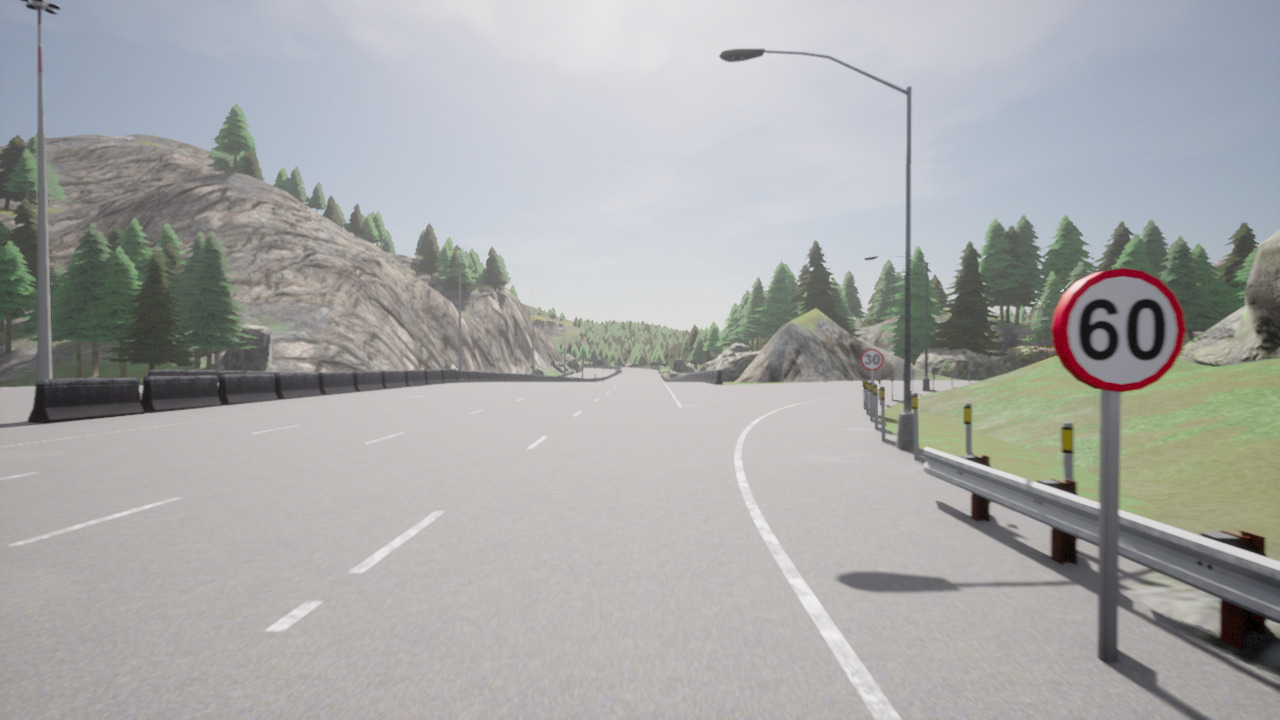sl30: (860, 349, 884, 371)
sl60: (1050, 267, 1187, 394)
